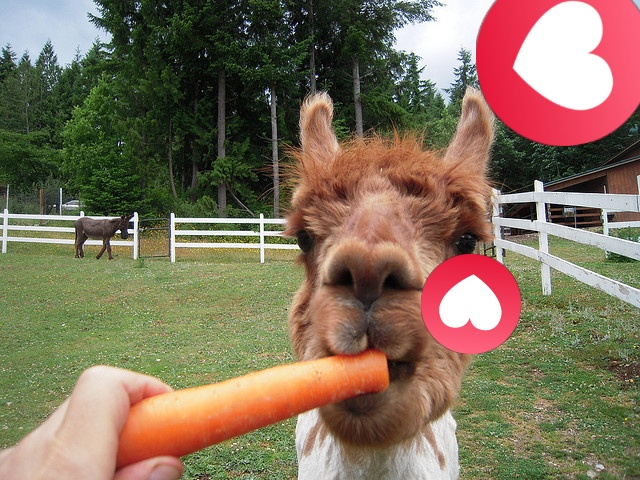love: (476, 0, 640, 146), (421, 254, 521, 354)
